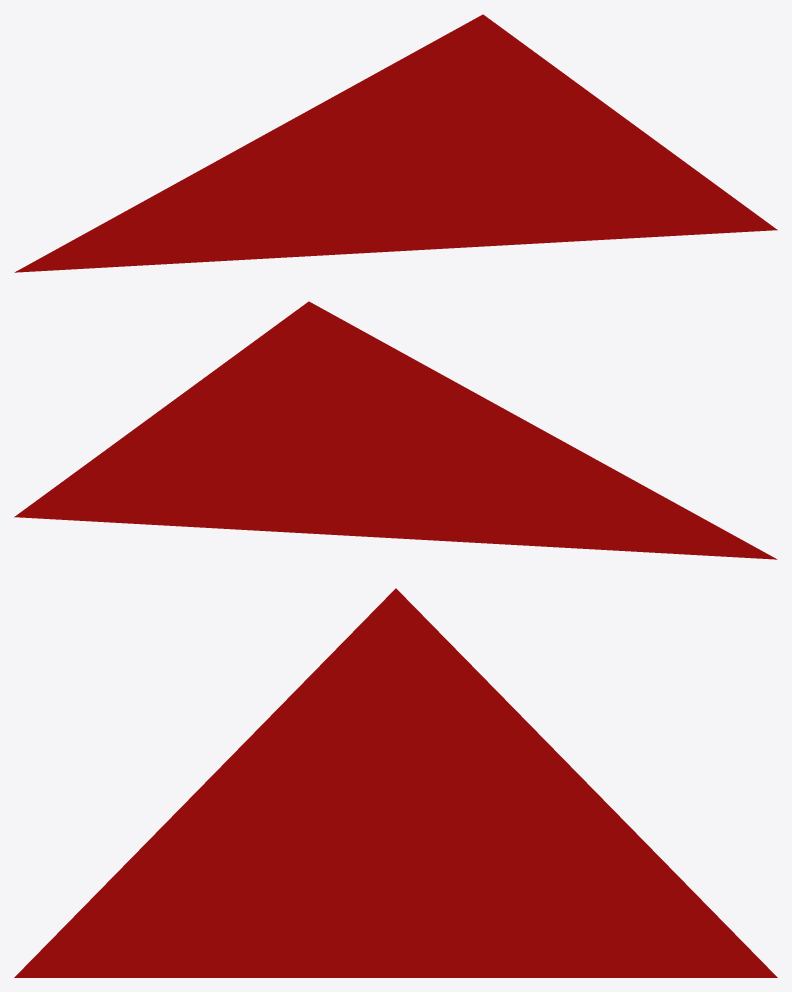
Rendered from triangle.fbx.
The picture shows the model from 3 angles, top to bottom: view 1: azimuth 30°, elevation 25°; view 2: azimuth 150°, elevation 25°; view 3: azimuth 270°, elevation 25°; orthographic projection. The views are drawn at different scales.
Visible parts, largest first — view 1: Cylinder; view 2: Cylinder; view 3: Cylinder.
Boxes of the visible parts, <box> form: Cylinder: <box>14,14,777,272</box>; Cylinder: <box>14,301,777,559</box>; Cylinder: <box>14,588,777,977</box>.
Bounding box in the file's own units: 231 × 3.12e-05 × 191.
